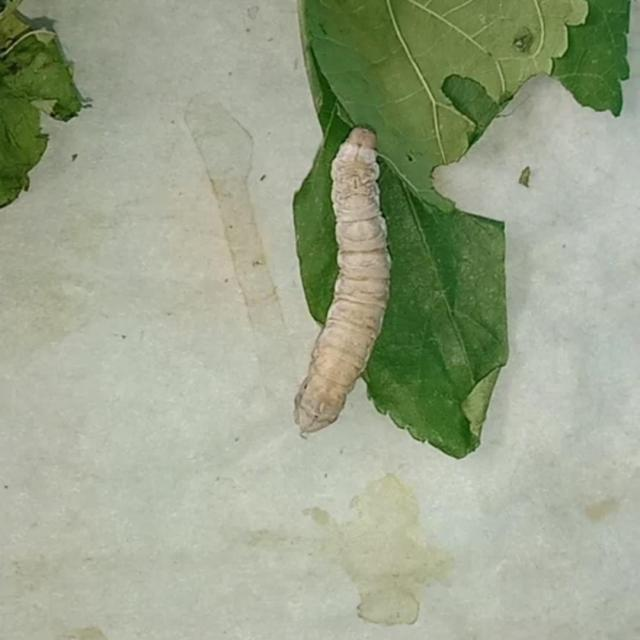Grasserie: (282, 116, 403, 441)
